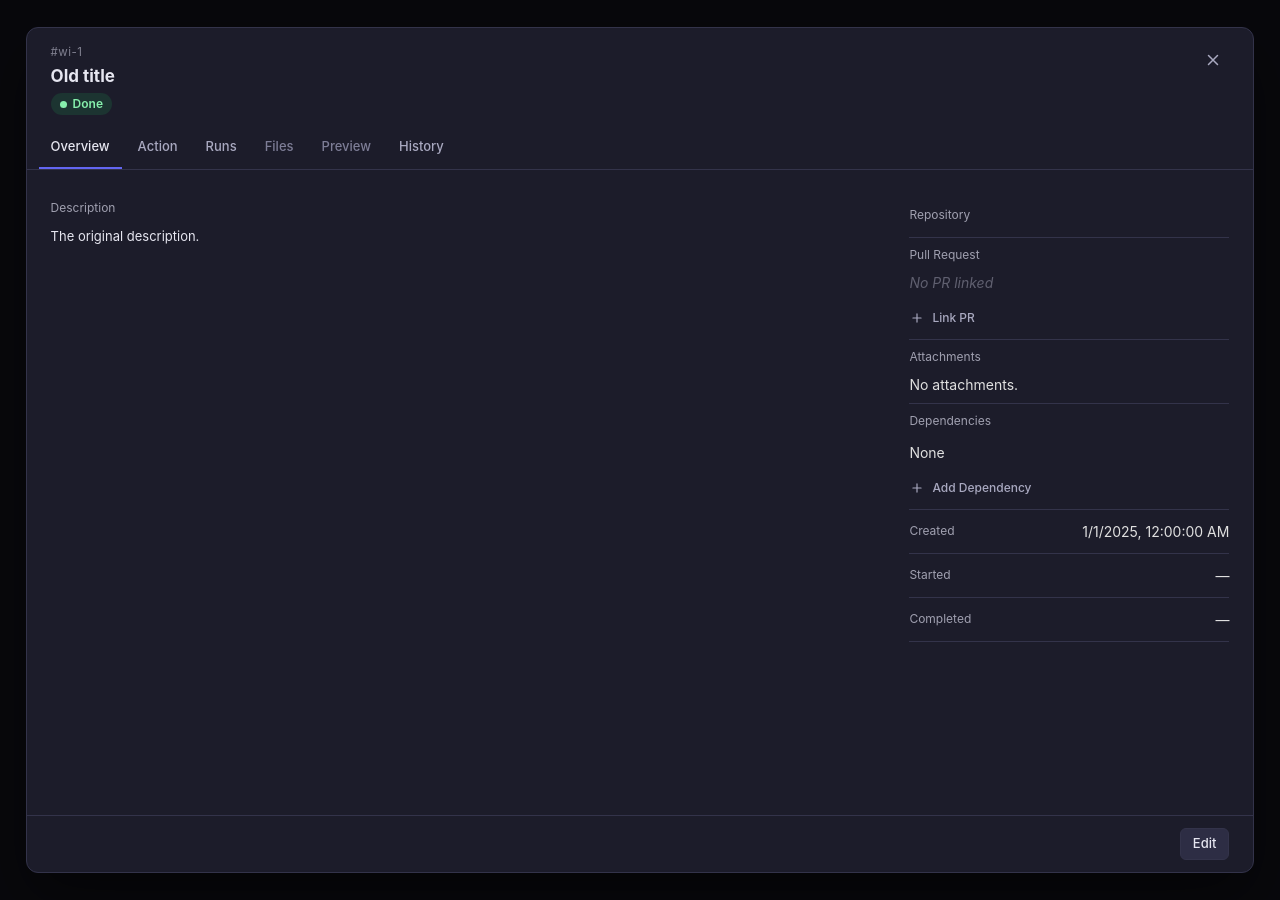
it: human input suggestions in the Action tab › shows the suggestions for the displayed run, whichever source made them, and nothing says no action is required
The image size is (1280, 900).
Click the tab "Action" at (158,148), box x1=126 y1=127 x2=190 y2=169
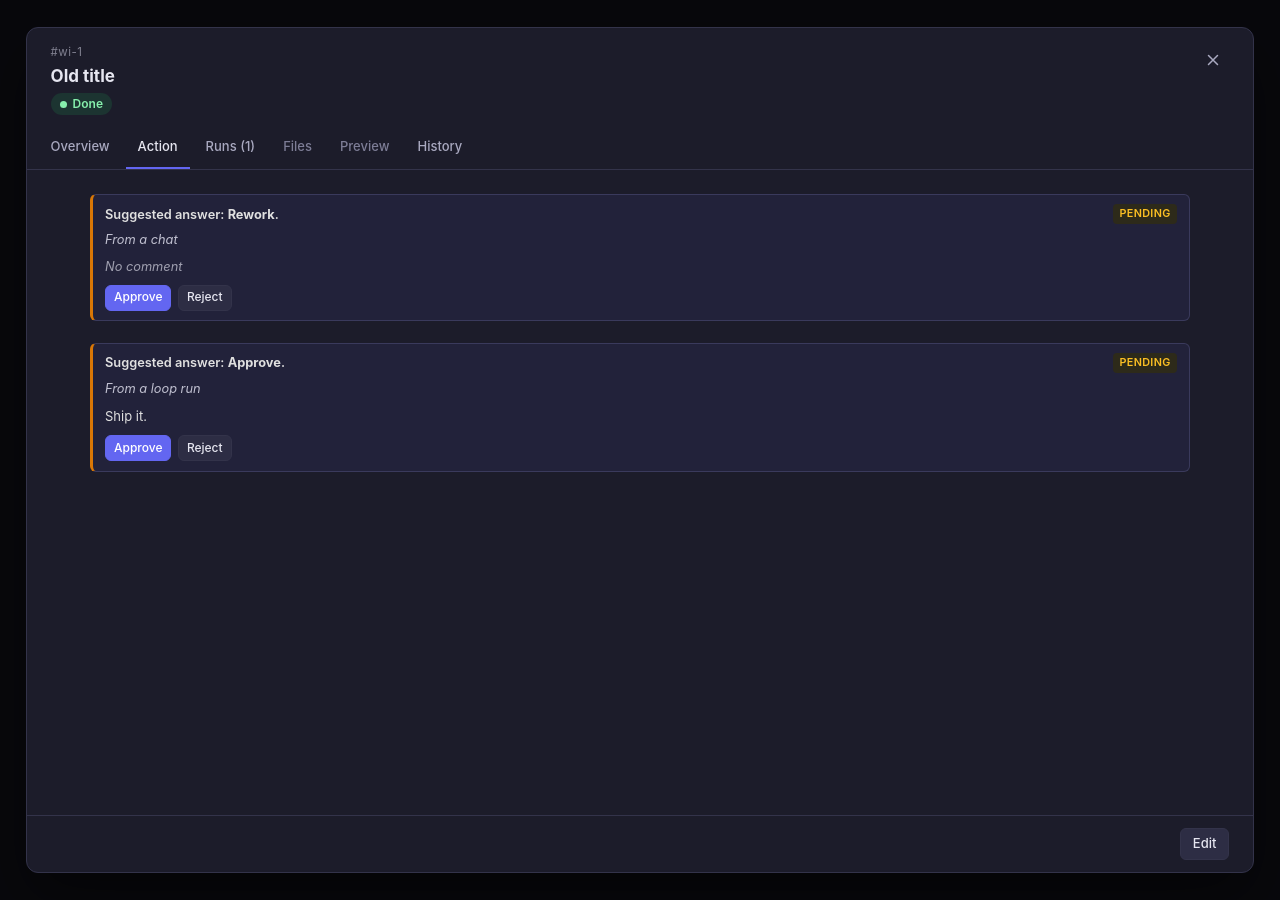
Check: the panel with id "wiv2-panel-action" shows "From a loop run", box x1=105 y1=381 x2=201 y2=396
Check: the panel with id "wiv2-panel-action" shows "From a chat", box x1=105 y1=232 x2=178 y2=247
Check: the text "From a chat" shows "No comment", box x1=105 y1=259 x2=182 y2=274
